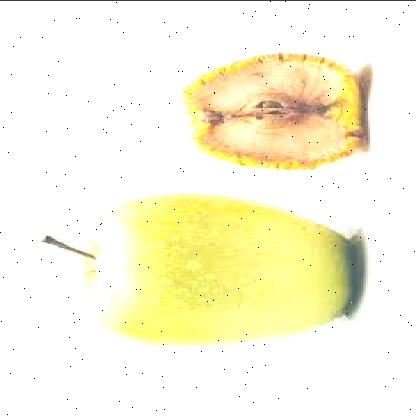apple: (78, 200, 354, 342)
damaged_apple: (178, 50, 368, 174)
